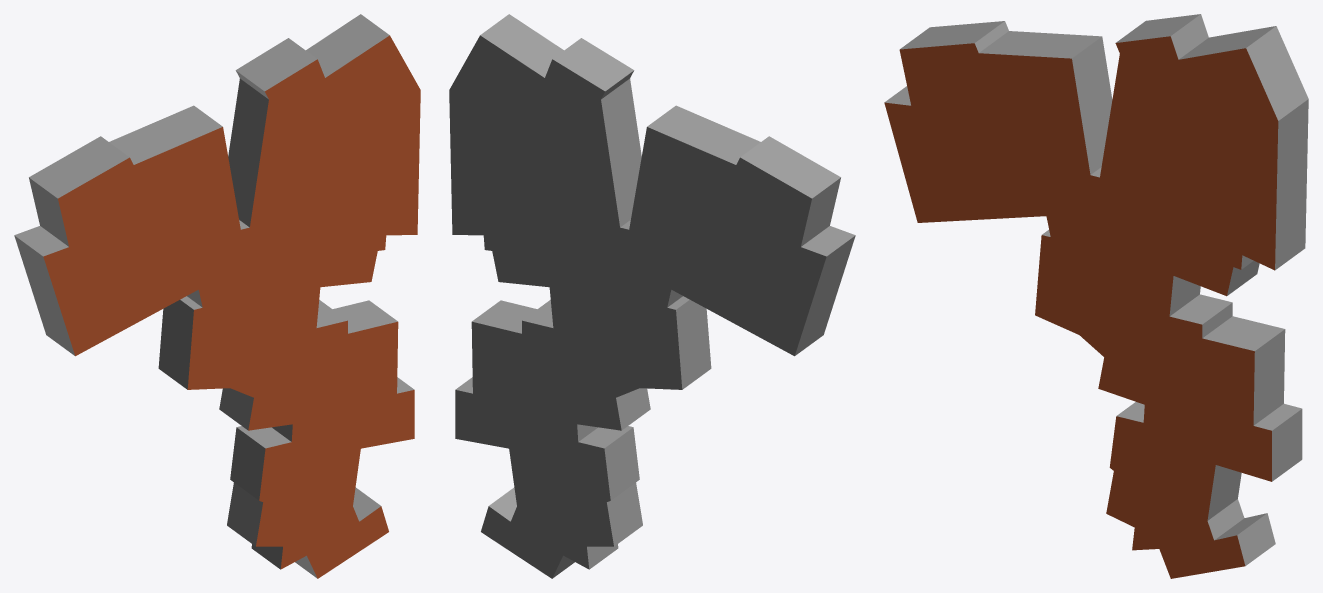
The model's file is construction_5048_assumed_A_Casa_h6m.obj.
The picture shows the model from 3 angles, left to right: view 1: azimuth 30°, elevation 25°; view 2: azimuth 150°, elevation 25°; view 3: azimuth 330°, elevation 25°; orthographic projection. The views are drawn at different scales.
Parts seen in each view (by area): view 1: construction_5048_assumed_A_Casa; view 2: construction_5048_assumed_A_Casa; view 3: construction_5048_assumed_A_Casa.
Boxes of the visible parts, <box> form: construction_5048_assumed_A_Casa: <box>14,14,420,578</box>; construction_5048_assumed_A_Casa: <box>449,14,855,578</box>; construction_5048_assumed_A_Casa: <box>884,14,1308,578</box>.
Bounding box in the file's own units: 44.94 × 59.85 × 6.
